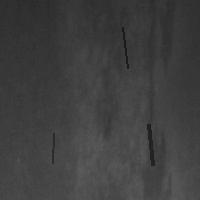inclusion: (143, 1, 177, 198), (96, 45, 124, 142), (120, 25, 129, 70), (146, 122, 154, 167), (50, 131, 55, 165)
